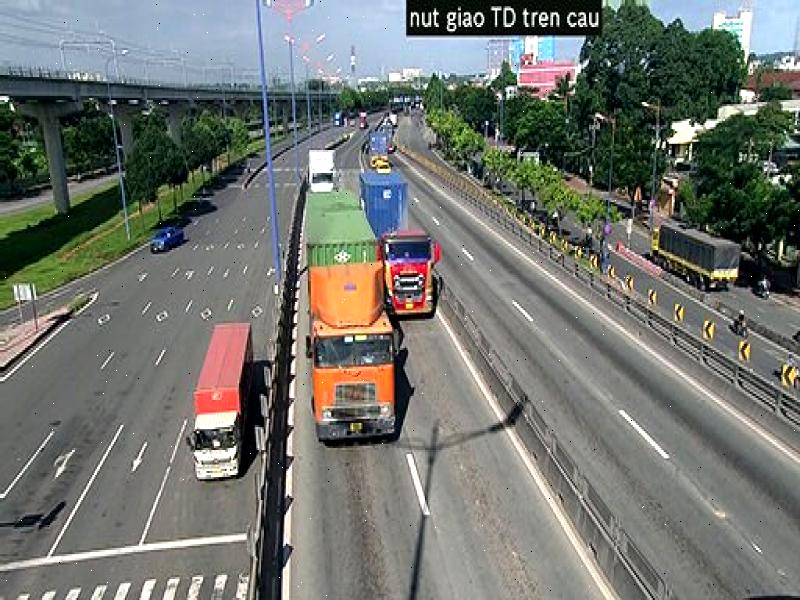truck: (305, 260, 402, 453), (184, 322, 252, 480)
